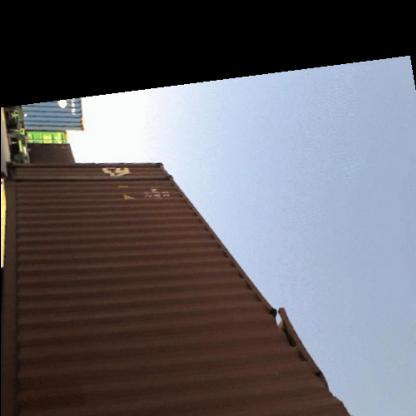Damage: (265, 296, 330, 396), (13, 164, 179, 190)
